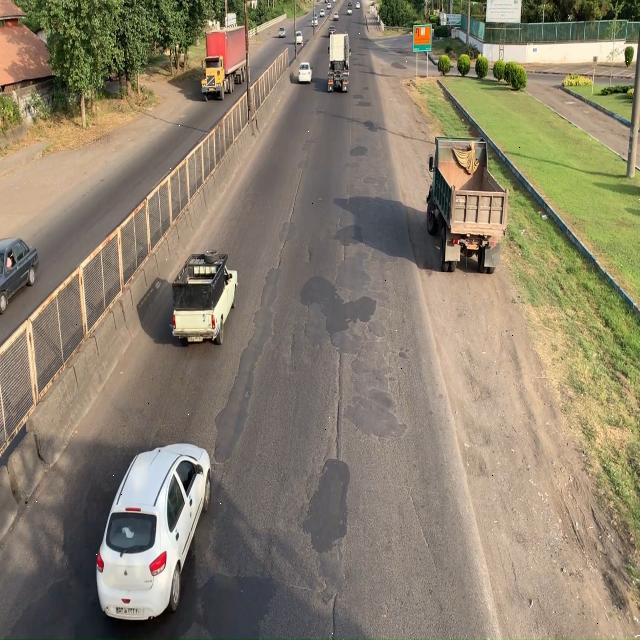Truck: (424, 125, 511, 282), (198, 17, 250, 106), (326, 31, 352, 98)
cars: (95, 439, 212, 629), (170, 249, 240, 353)
